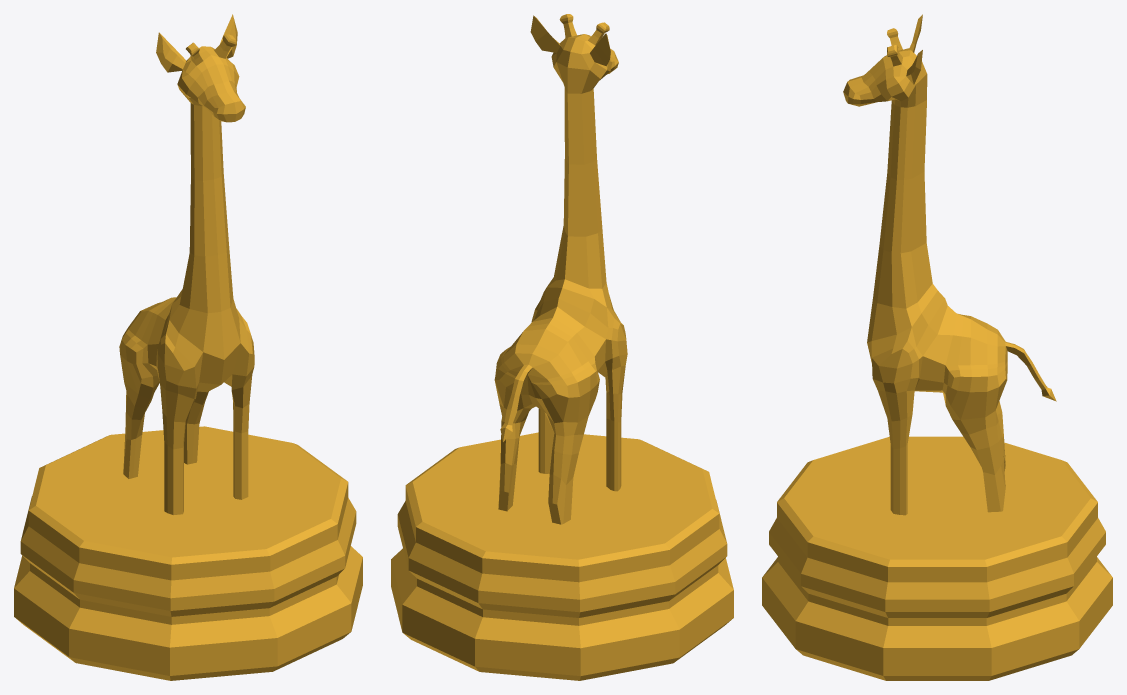
The model's file is GirafPokal_Model 1.fbx.
3 views of the same model, side by side, from view 1: azimuth 30°, elevation 25°; view 2: azimuth 150°, elevation 25°; view 3: azimuth 270°, elevation 25° (orthographic).
Parts seen in each view (by area): view 1: PokalGiraf; view 2: PokalGiraf; view 3: PokalGiraf.
Boxes of the visible parts, x1,y1,x2,y2 form: PokalGiraf: (14,14,362,680); PokalGiraf: (391,14,733,680); PokalGiraf: (762,14,1112,680).
Size of the model in its own units: 348 by 670 by 366.
